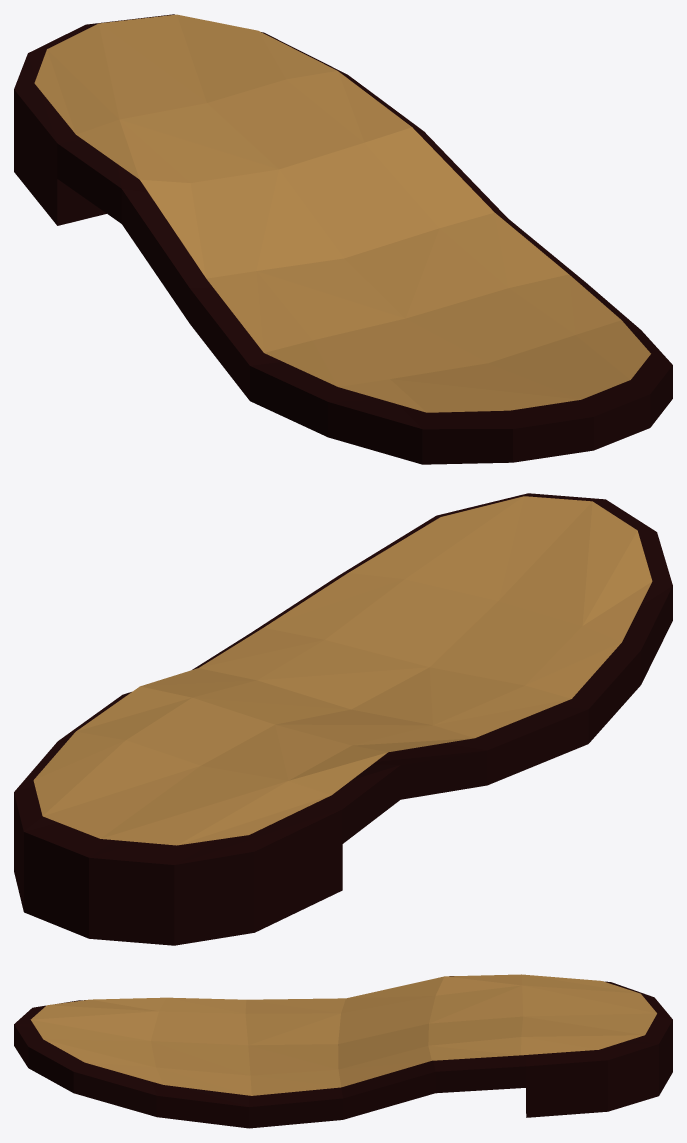
The model's file is DressSole.glb.
3 renders of one model, top to bottom at view 1: azimuth 30°, elevation 25°; view 2: azimuth 150°, elevation 25°; view 3: azimuth 270°, elevation 25°, orthographic. The views are drawn at different scales.
Visible parts, largest first — view 1: Node; view 2: Node; view 3: Node.
Boxes of the visible parts, x1,y1,x2,y2 form: Node: [14, 14, 672, 464]; Node: [14, 493, 672, 945]; Node: [14, 974, 672, 1128].
Size of the model in its own units: 2.58 by 0.7909 by 6.81.
